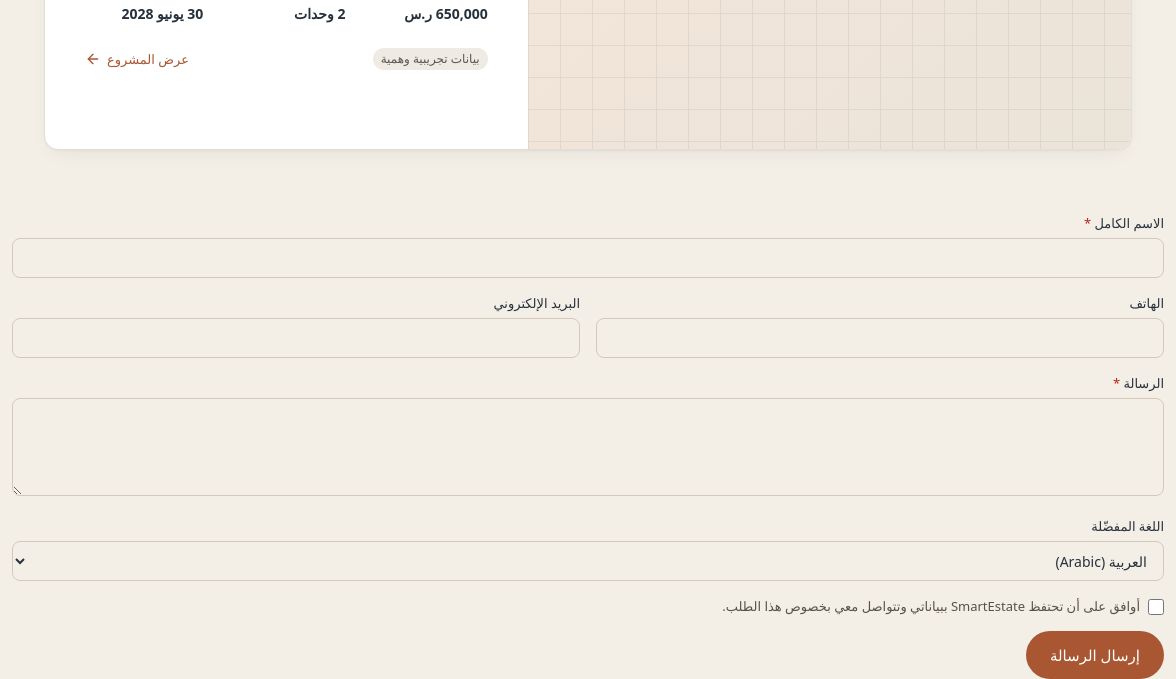
it: language › shows the site in Arabic, right-to-left, with Arabic labels, prices and validation
This screenshot has width=1176, height=679.
(page scrolled)
Check: the text "650,000 ر.س" is shown, box [404,4,488,23]
Click the button "إرسال الرسالة" at coordinates (1095, 655), box [1026,631,1164,678]
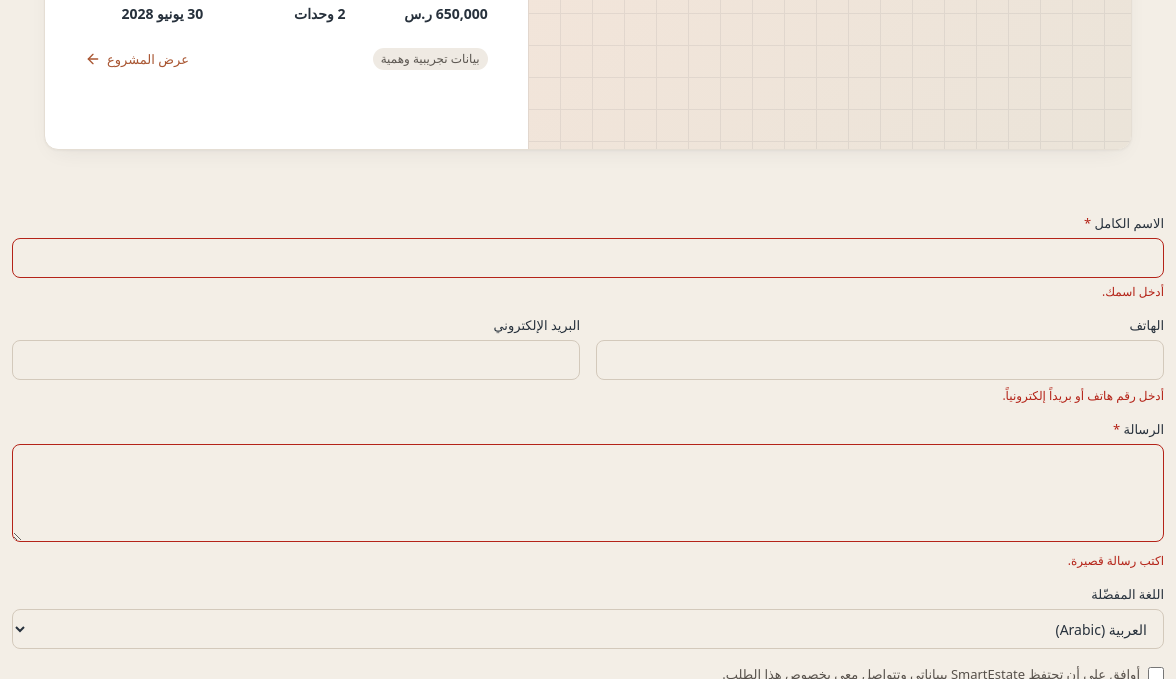
Check: the dropdown labelled "اللغة المفضّلة" shows "العربية (Arabic)", box [12,609,1164,649]
Check: the text "أدخل اسمك." is shown, box [1102,283,1164,300]
